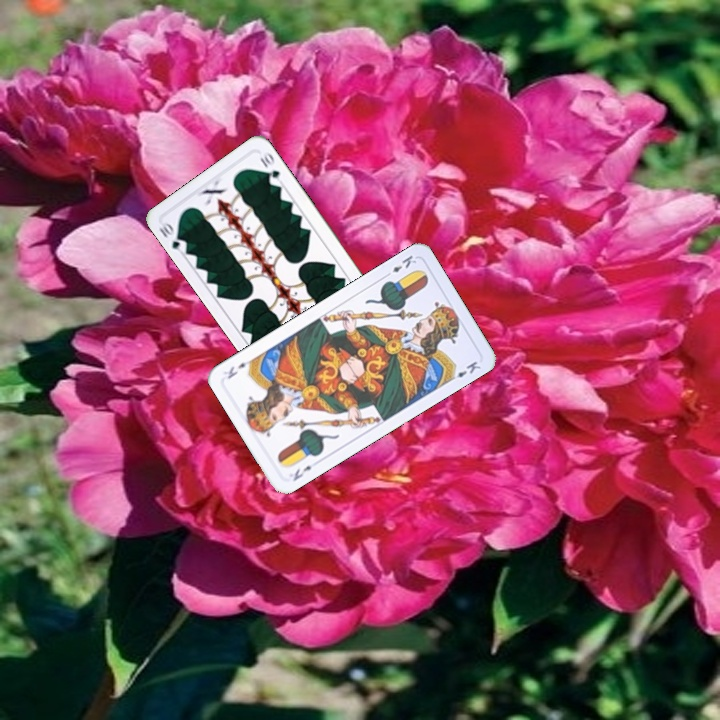EK: (381, 251, 419, 280), (289, 461, 314, 484)
G10: (155, 219, 190, 256)
